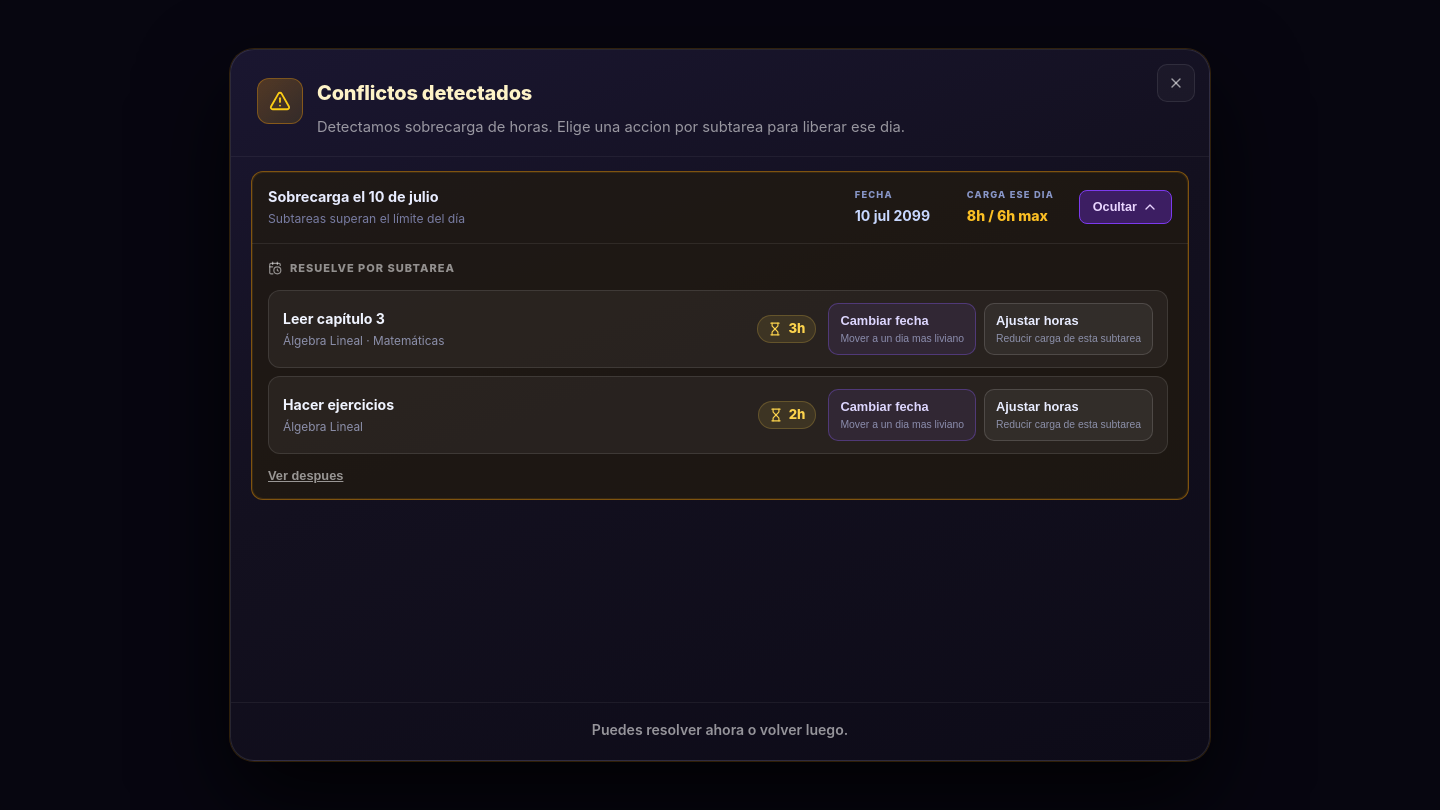
ConflictModal — expand/collapse › collapses an expanded item when 'Ver despues' is clicked
Click the button with test id "conflict-item-close-btn-1" at (306, 476), box left=268, top=468, right=343, bottom=483
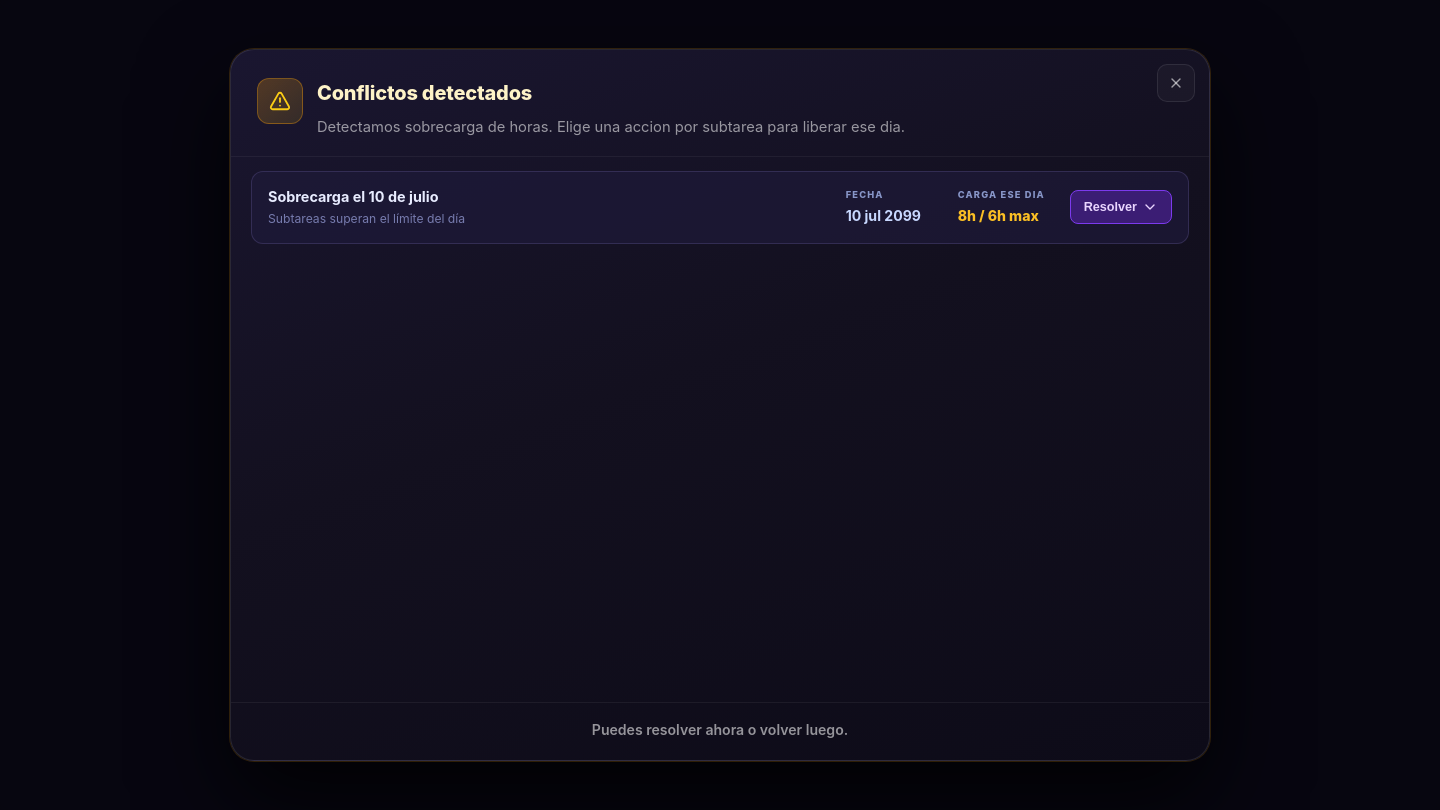
Result: the button with test id "conflict-item-toggle-btn-1" reads "Resolver" at left=1070, top=190, right=1172, bottom=224
